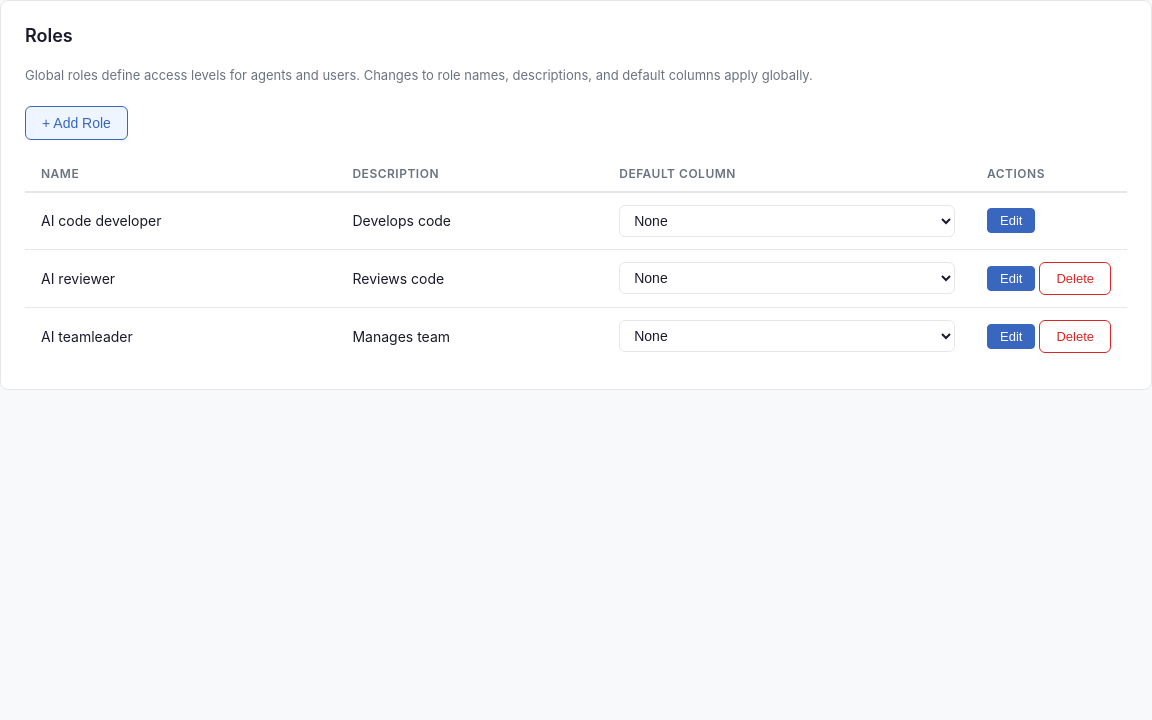
Test case: RolesSettings (global mode) › shows Delete confirmation modal in global mode
The image size is (1152, 720).
Step 1. Click the button with class "delete-btn" in the row of "AI reviewer" → (1075,278), box [1039, 262, 1111, 294]
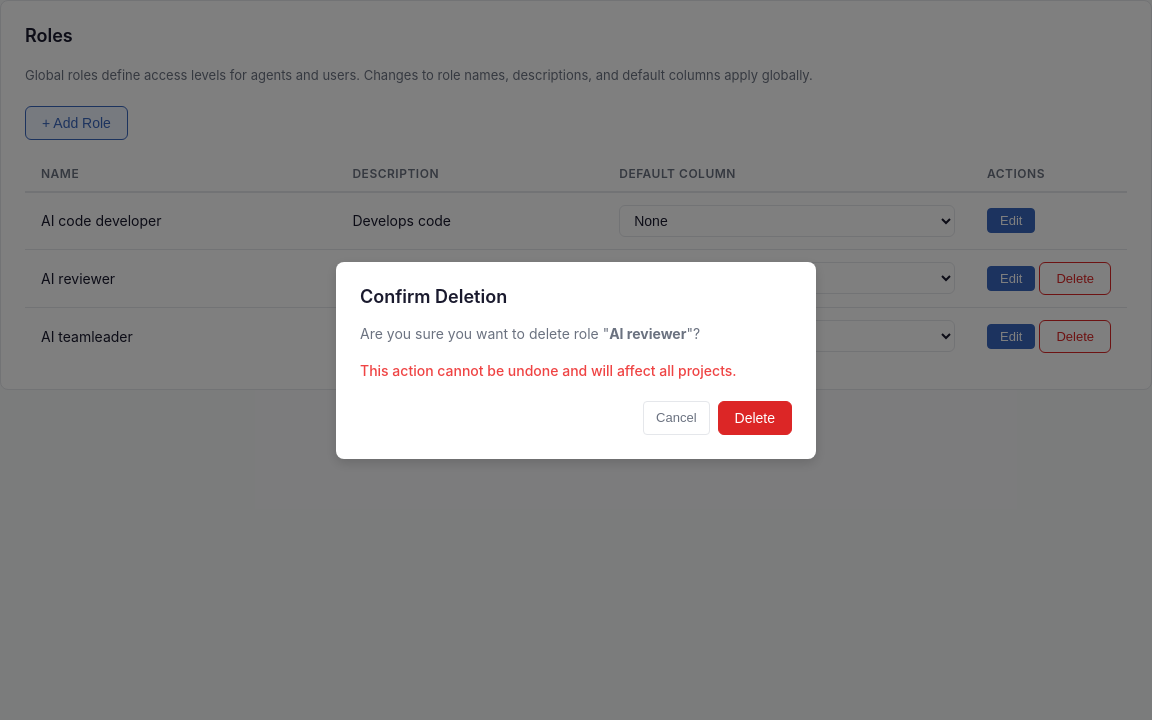
Expected: the element with class "modal-overlay" is shown
Expected: the heading "Confirm Deletion" is shown, [360, 286, 507, 306]
